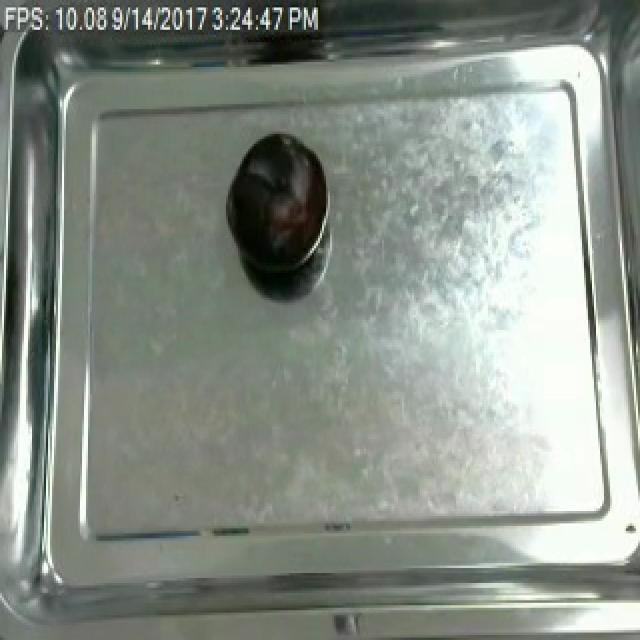Fruit: (222, 129, 328, 283)
